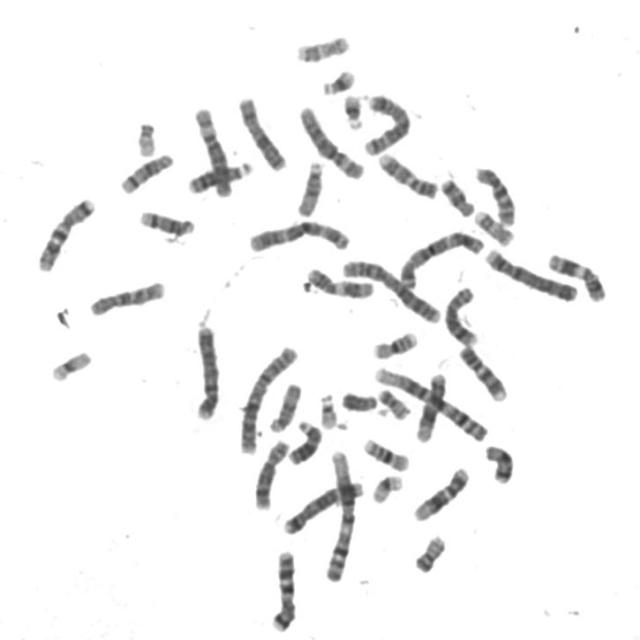A1: (369, 361, 492, 443), (319, 443, 358, 584)
A2: (336, 252, 443, 326), (234, 339, 300, 456)
A3: (394, 224, 487, 290), (243, 214, 353, 254)
B4: (479, 242, 580, 304), (188, 319, 222, 422)
B5: (278, 476, 366, 536), (359, 88, 413, 156)
C10: (83, 274, 168, 318), (470, 160, 518, 228)
C11: (542, 246, 608, 304), (300, 262, 375, 300)
C12: (408, 460, 471, 523), (412, 367, 449, 443)
C6: (293, 99, 366, 181), (188, 100, 235, 198)
C7: (31, 191, 97, 273), (265, 544, 298, 634)
C8: (248, 434, 291, 512), (439, 280, 480, 348)
C9: (374, 147, 441, 200), (454, 339, 509, 403)
D13: (182, 155, 255, 196), (283, 414, 324, 466)
D14: (114, 147, 176, 195), (133, 204, 197, 236)
D15: (264, 377, 304, 434), (291, 154, 326, 218)
E16: (358, 431, 412, 473), (367, 326, 420, 360)
E17: (290, 29, 352, 64), (468, 204, 516, 247)
E18: (435, 172, 477, 218), (480, 439, 516, 485)
F19: (45, 344, 94, 383), (366, 468, 406, 505)
F20: (409, 528, 448, 574), (372, 382, 413, 422)
G21: (316, 63, 358, 96), (338, 88, 366, 130)
G22: (131, 116, 159, 158), (314, 386, 340, 429)
X: (232, 90, 290, 172)
Y: (336, 386, 379, 412)
